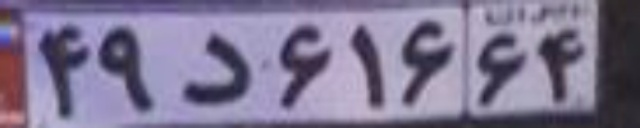1: (345, 24, 385, 107)
4: (36, 25, 88, 117), (534, 30, 586, 101)
6: (271, 25, 331, 106), (400, 21, 455, 105), (471, 34, 529, 105)
9: (94, 26, 153, 110)
dal: (177, 33, 259, 103)
